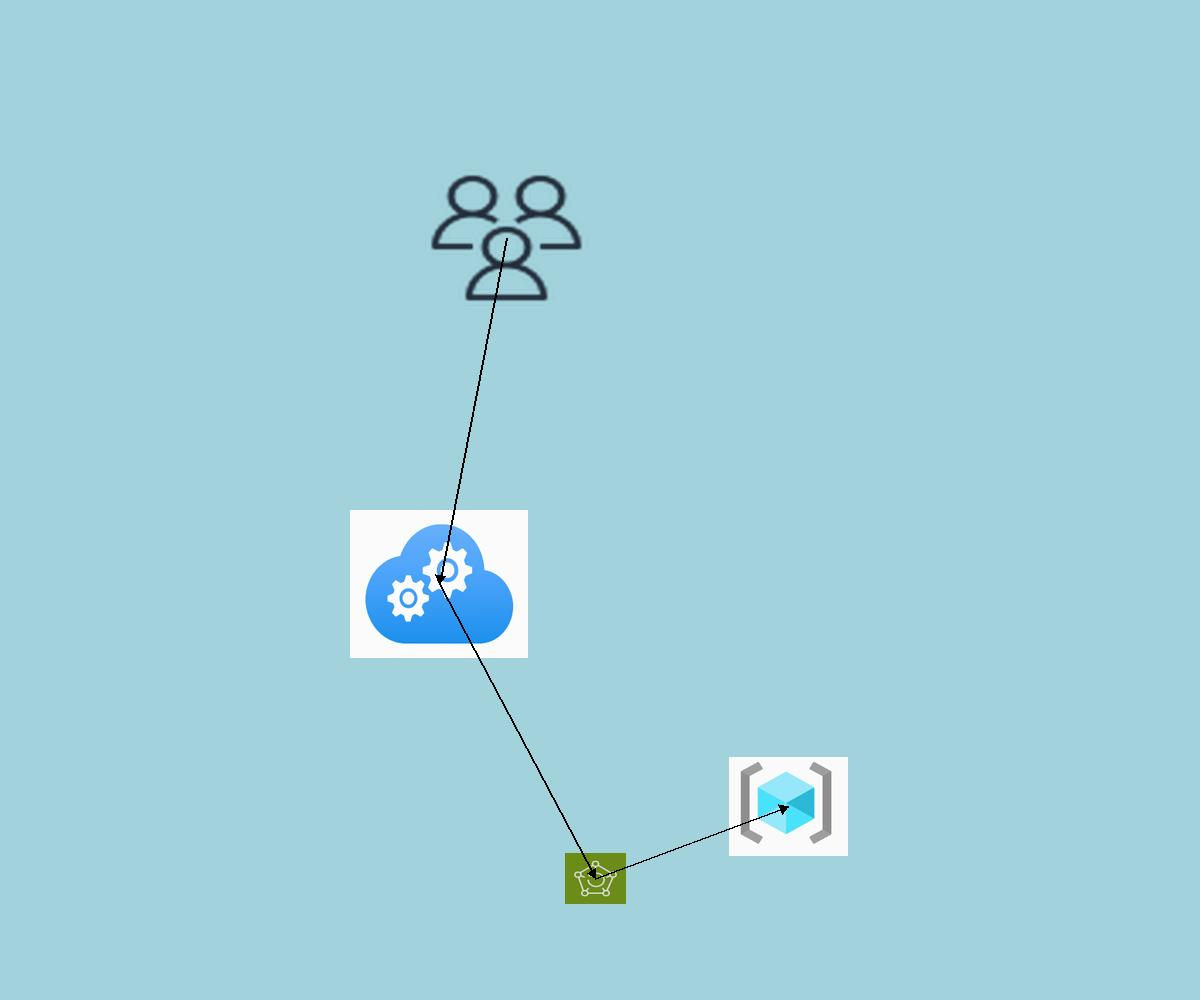AWS-Backup: (565, 853, 626, 904)
AWS-Res_Users: (425, 170, 588, 306)
Azure_cloud_services: (350, 510, 528, 658)
Azure_resource_group: (729, 757, 848, 856)
